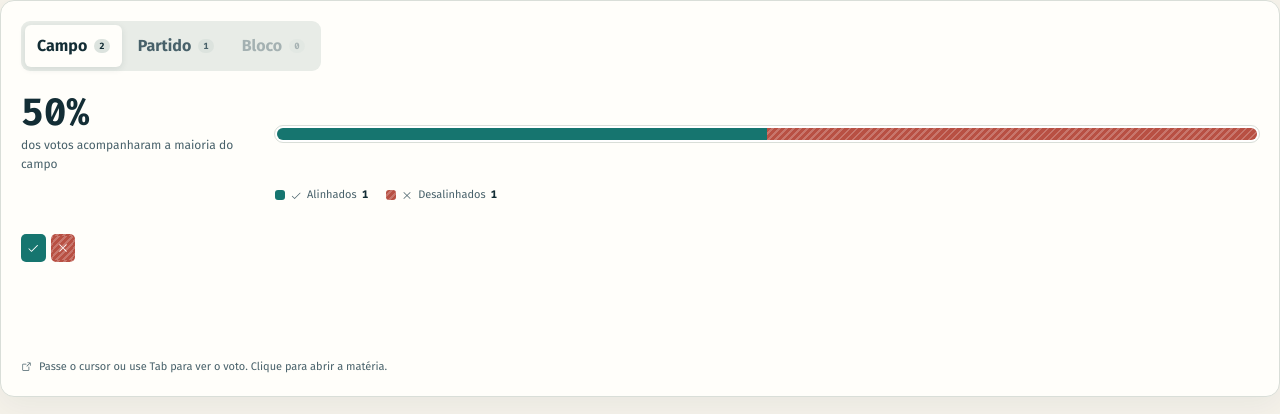
AlignmentChart › shows the ratio, traceable links and vote detail on hover
Expected: the text "50%" is shown, [21,87,89,137]
Hover over the link named "PL 99/2026: votou SIM, alinhado": (33, 248) [21,234,46,262]
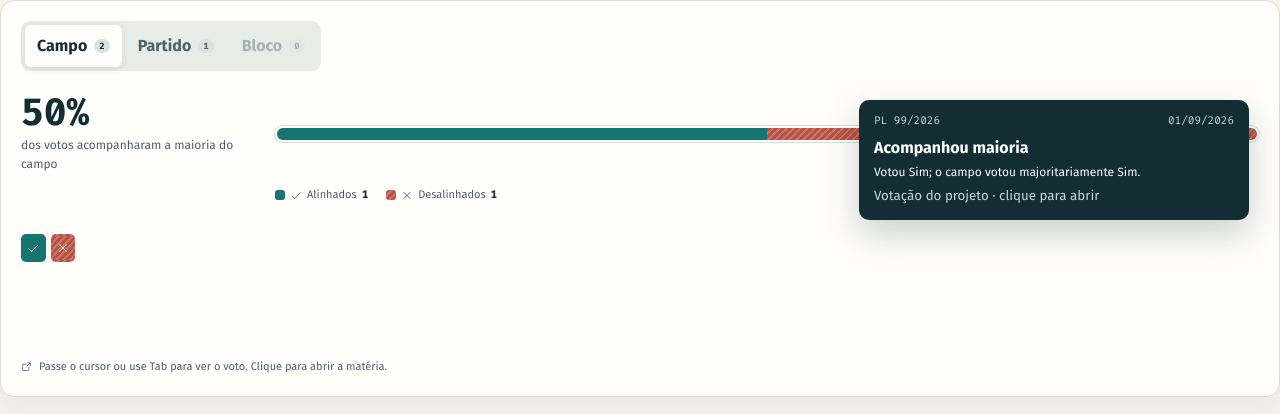
Result: the tooltip shows "Votou Sim" at [859,100,1249,220]
Result: the tooltip shows "Acompanhou maioria" at [859,100,1249,220]
